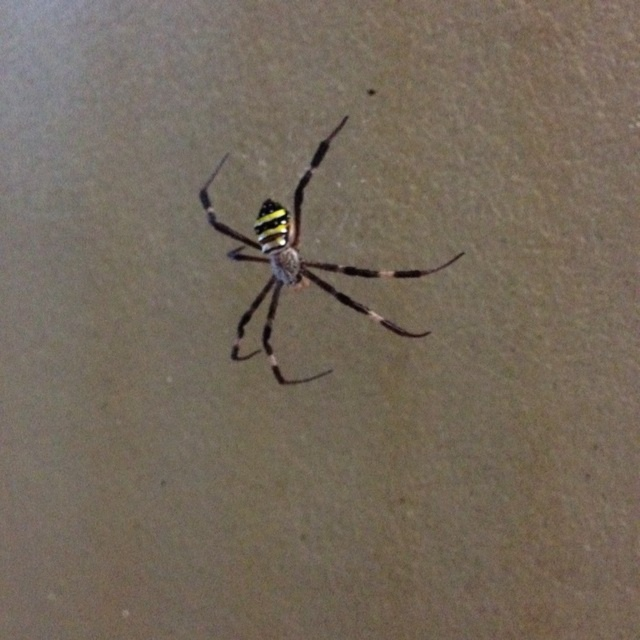Spider: (198, 115, 465, 384)
